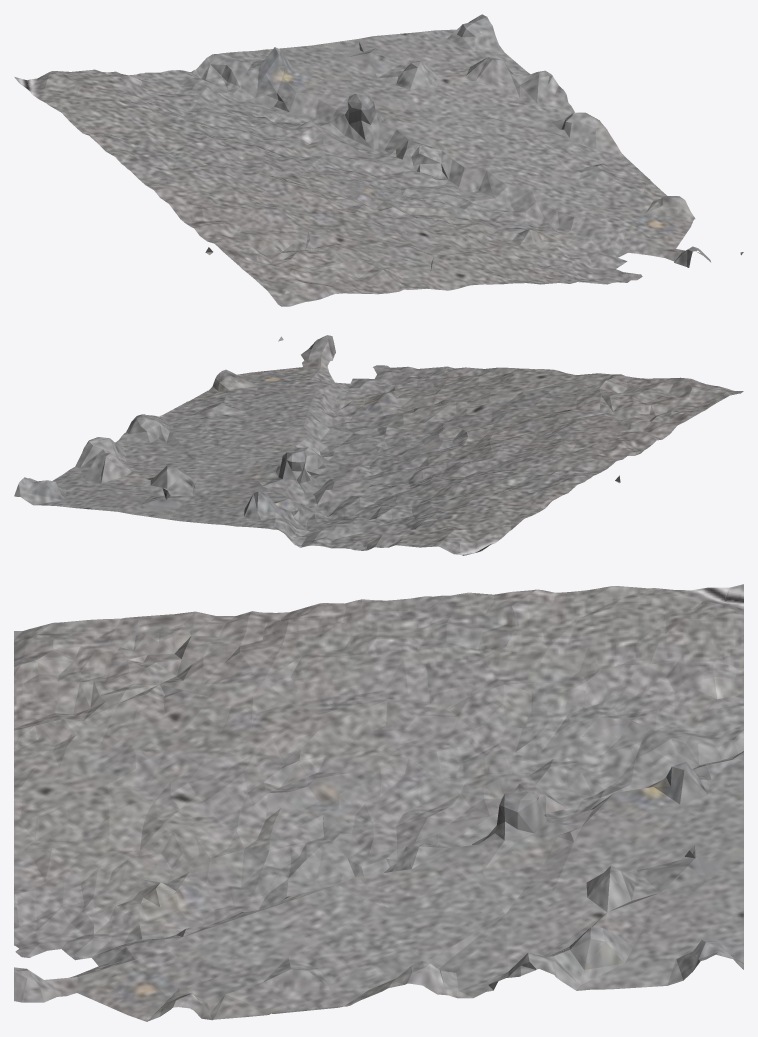
3 views of the same model, one above another, from view 1: azimuth 30°, elevation 25°; view 2: azimuth 150°, elevation 25°; view 3: azimuth 270°, elevation 25° (orthographic). The views are drawn at different scales.
Bounding box in the file's own units: 1.67 × 0.3297 × 1.67.
3 materials, 3 textured.
